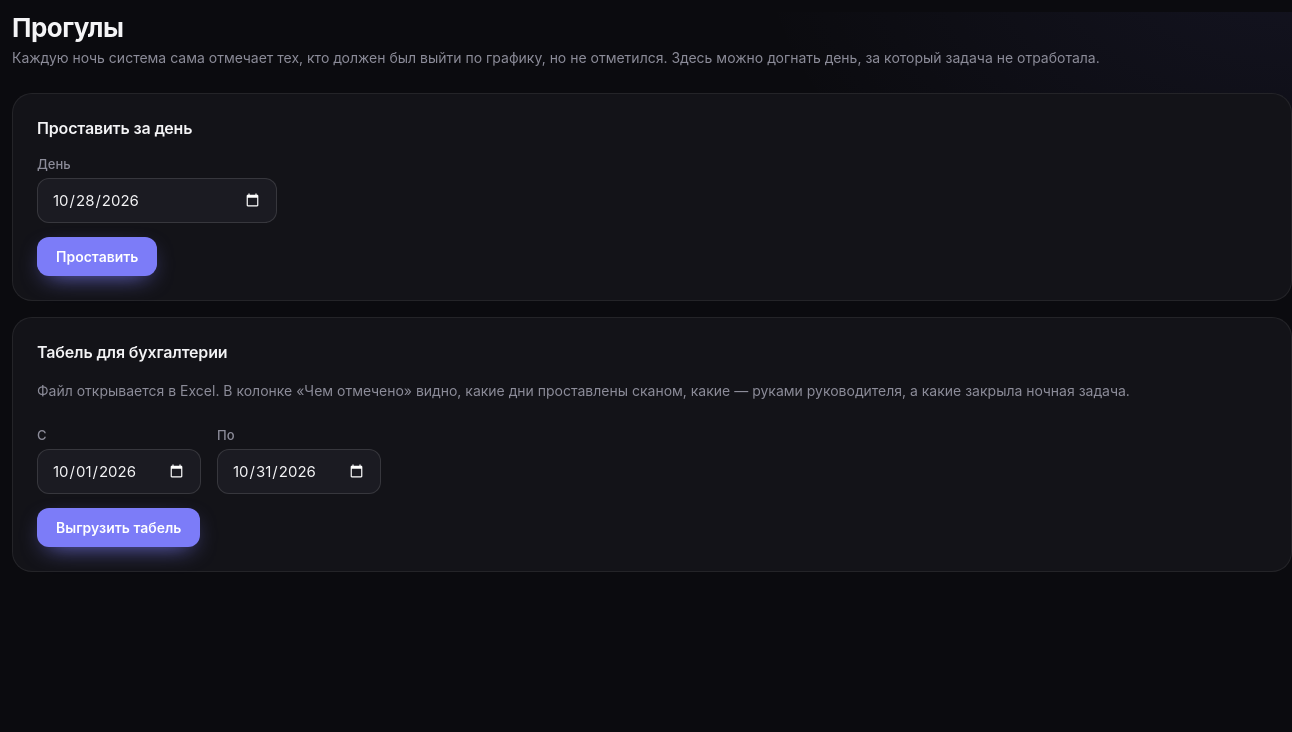
Test case: прогулы: что показано после запуска › при повторном запуске прошлый итог не висит на экране
Click the button "Проставить".
click(97, 257)  # box [37,237,158,276]
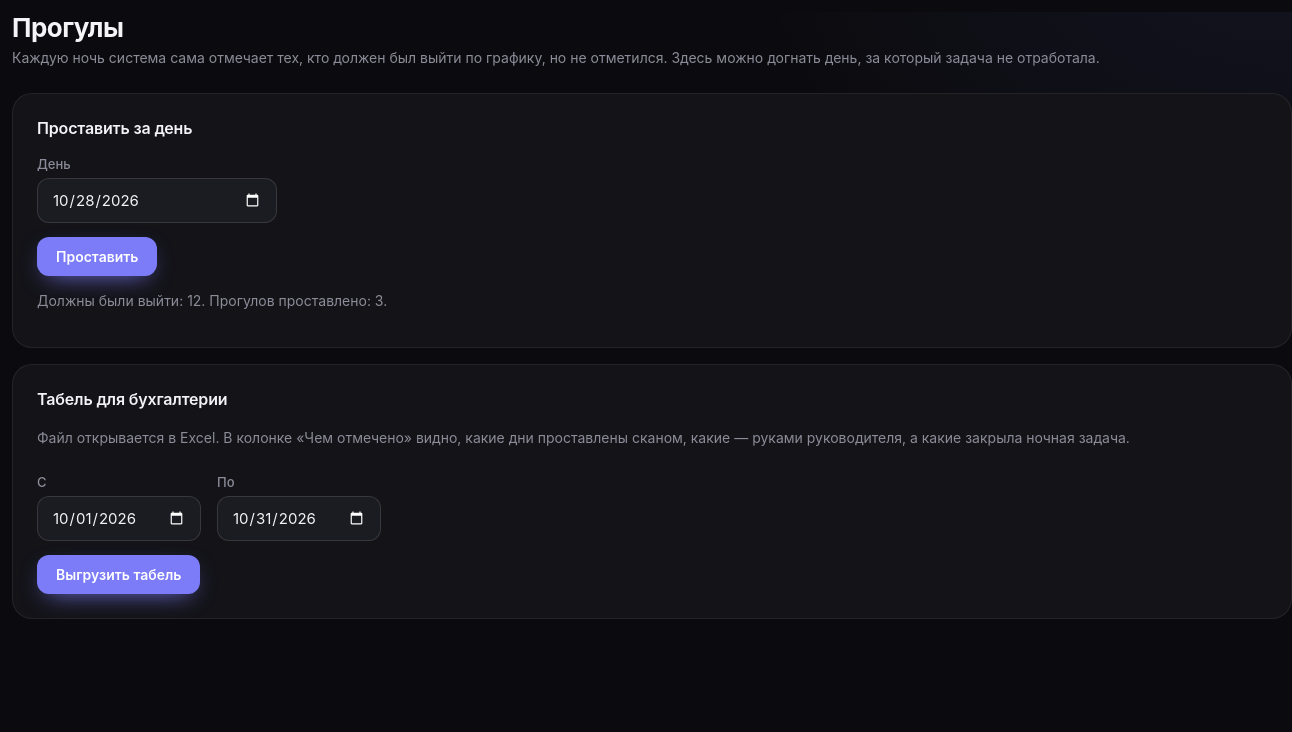
Expected: the text "Должны были выйти: 12. Прогулов проставлено: 3." is shown, [37,292,387,309]
Click the button "Проставить".
click(97, 257)  # box [37,237,158,276]
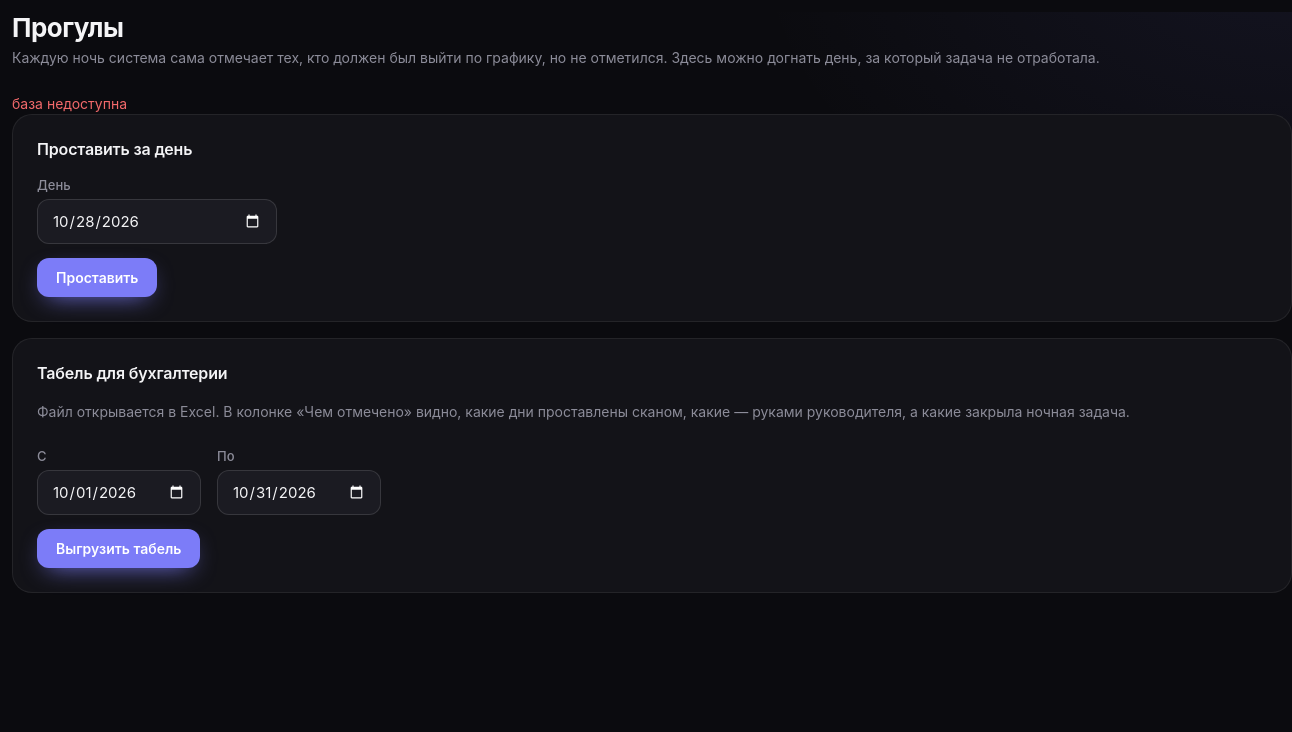
Expected: the text "Прогулов проставлено: 3" is gone
